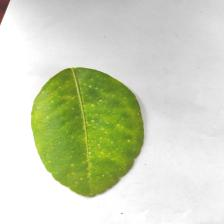greening: (26, 64, 149, 198)
